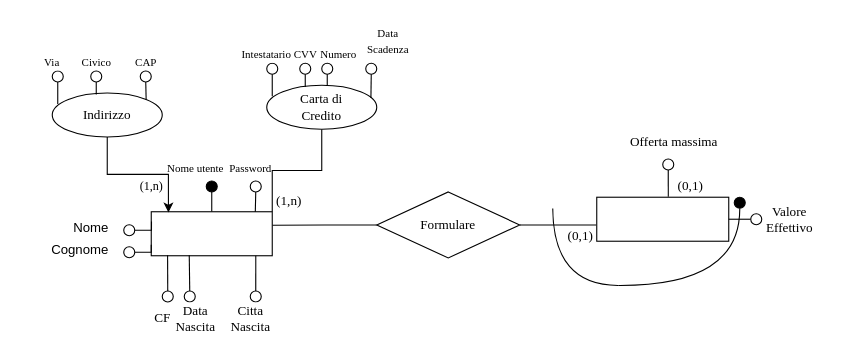
The diagram is 846 pixels wide and 359 high, and some of its shapes have lost their labels. Each missing label, with the box of its shape:
Cliente: (150, 211, 272, 256)
Offerte: (596, 196, 729, 241)
